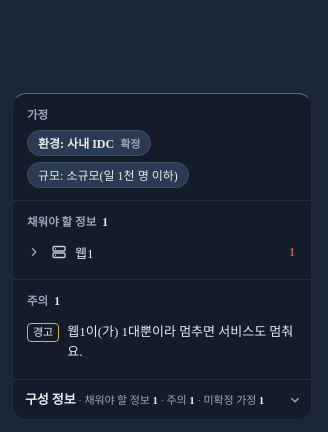
Escape inside the open card collapses it and returns focus to the toggle
Click the button named "웹1 항목 펼치기" at (34,252), box 23,241 -> 45,263
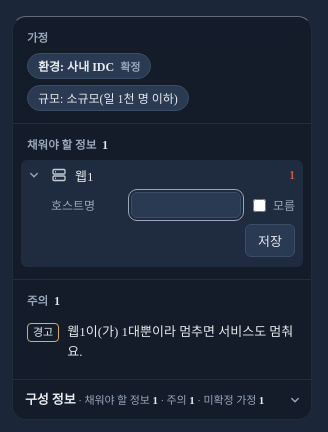
Press Escape
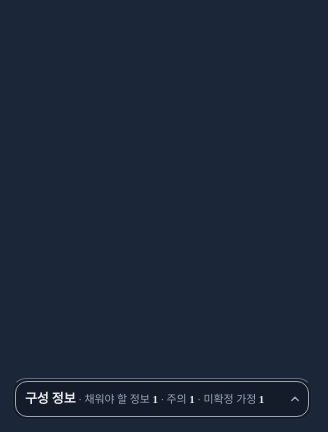
expect the button "구성 정보 · 채워야 할 정보 1 · 주의 1 · 미확정 가정 1" is collapsed: met, box 13,379 -> 311,419
